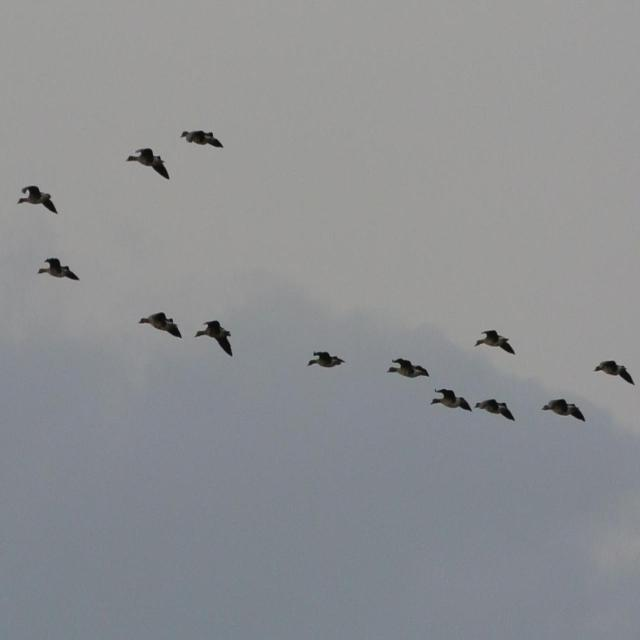bird: (138, 305, 184, 343), (195, 317, 235, 358), (124, 146, 169, 182), (16, 181, 59, 218), (542, 397, 588, 426), (593, 358, 636, 389), (36, 254, 80, 284), (472, 328, 515, 358), (475, 395, 514, 426), (385, 357, 430, 383), (429, 386, 470, 414), (181, 128, 225, 154), (304, 349, 344, 375)
